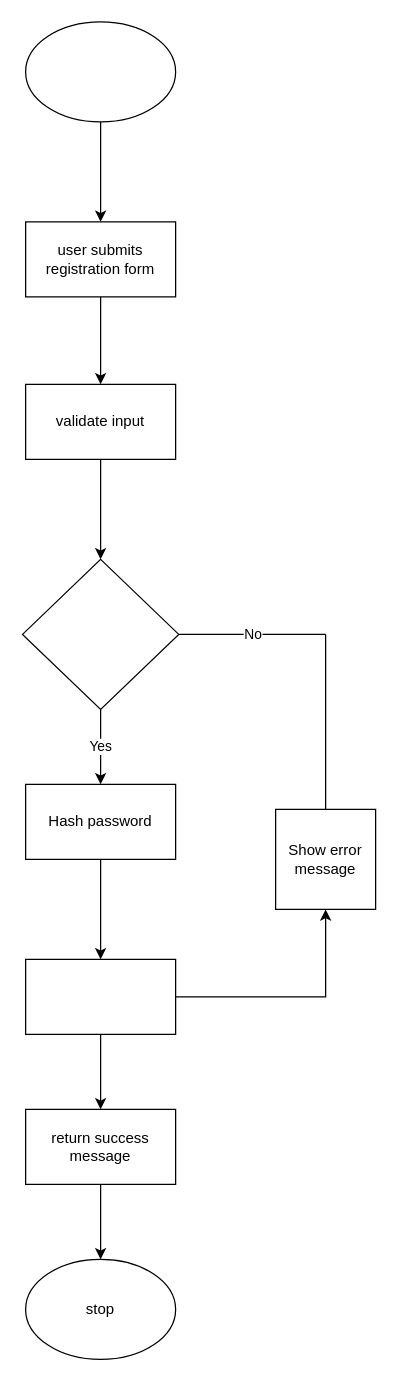
Image size: 398x1381. Some labels were removed from this diagram. Here are the shapes that lost their labels. From the top down, the box of each, then its label:
(24, 21, 176, 122): Start
(21, 558, 179, 709): Does user already exist?
(24, 958, 176, 1034): Store user in database
